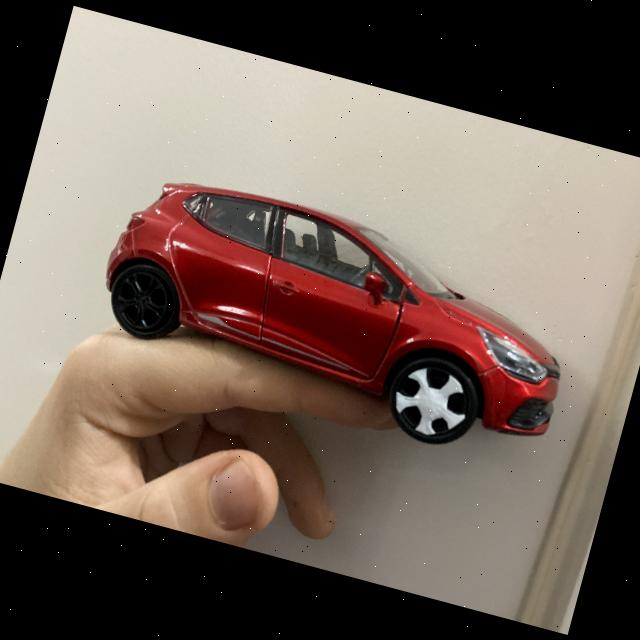Dogru_Jant: (111, 270, 171, 332)
Yanlis_Jant: (386, 360, 475, 445)
